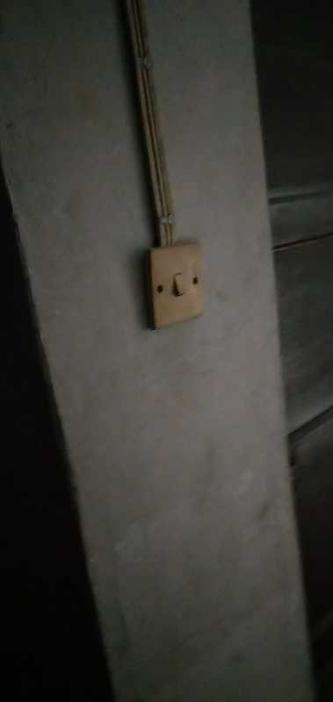switch: (174, 261, 190, 290)
